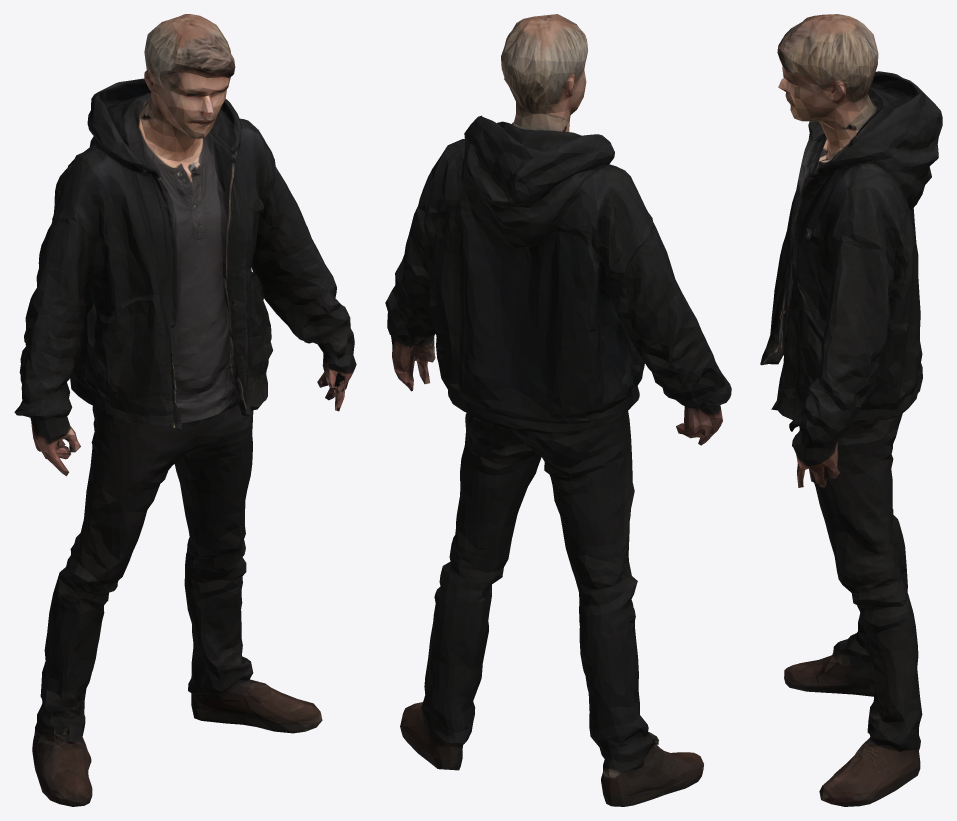
The model's file is Standing_Strong_0413203954_texture.fbx.
3 renders of one model, left to right at view 1: azimuth 30°, elevation 25°; view 2: azimuth 150°, elevation 25°; view 3: azimuth 270°, elevation 25°, orthographic.
Visible parts, largest first — view 1: temp; view 2: temp; view 3: temp.
Boxes of the visible parts, box(x1,y1,x2,y2) form: temp: box(14, 14, 356, 806); temp: box(385, 14, 731, 806); temp: box(760, 14, 942, 806).
Bounding box in the file's own units: 95.77 × 200 × 45.48.
1 material, 1 textured.
